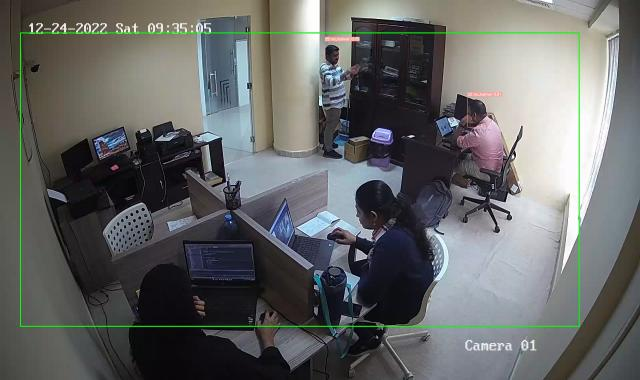no_hairnet: (141, 266, 200, 328), (352, 183, 391, 228), (466, 101, 488, 126), (326, 44, 341, 68)
